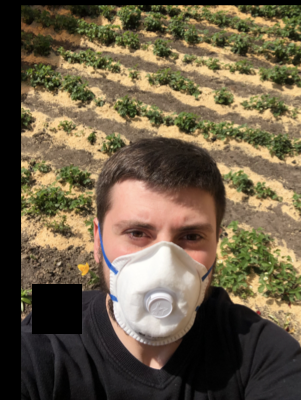with_mask: (107, 199, 216, 345)
